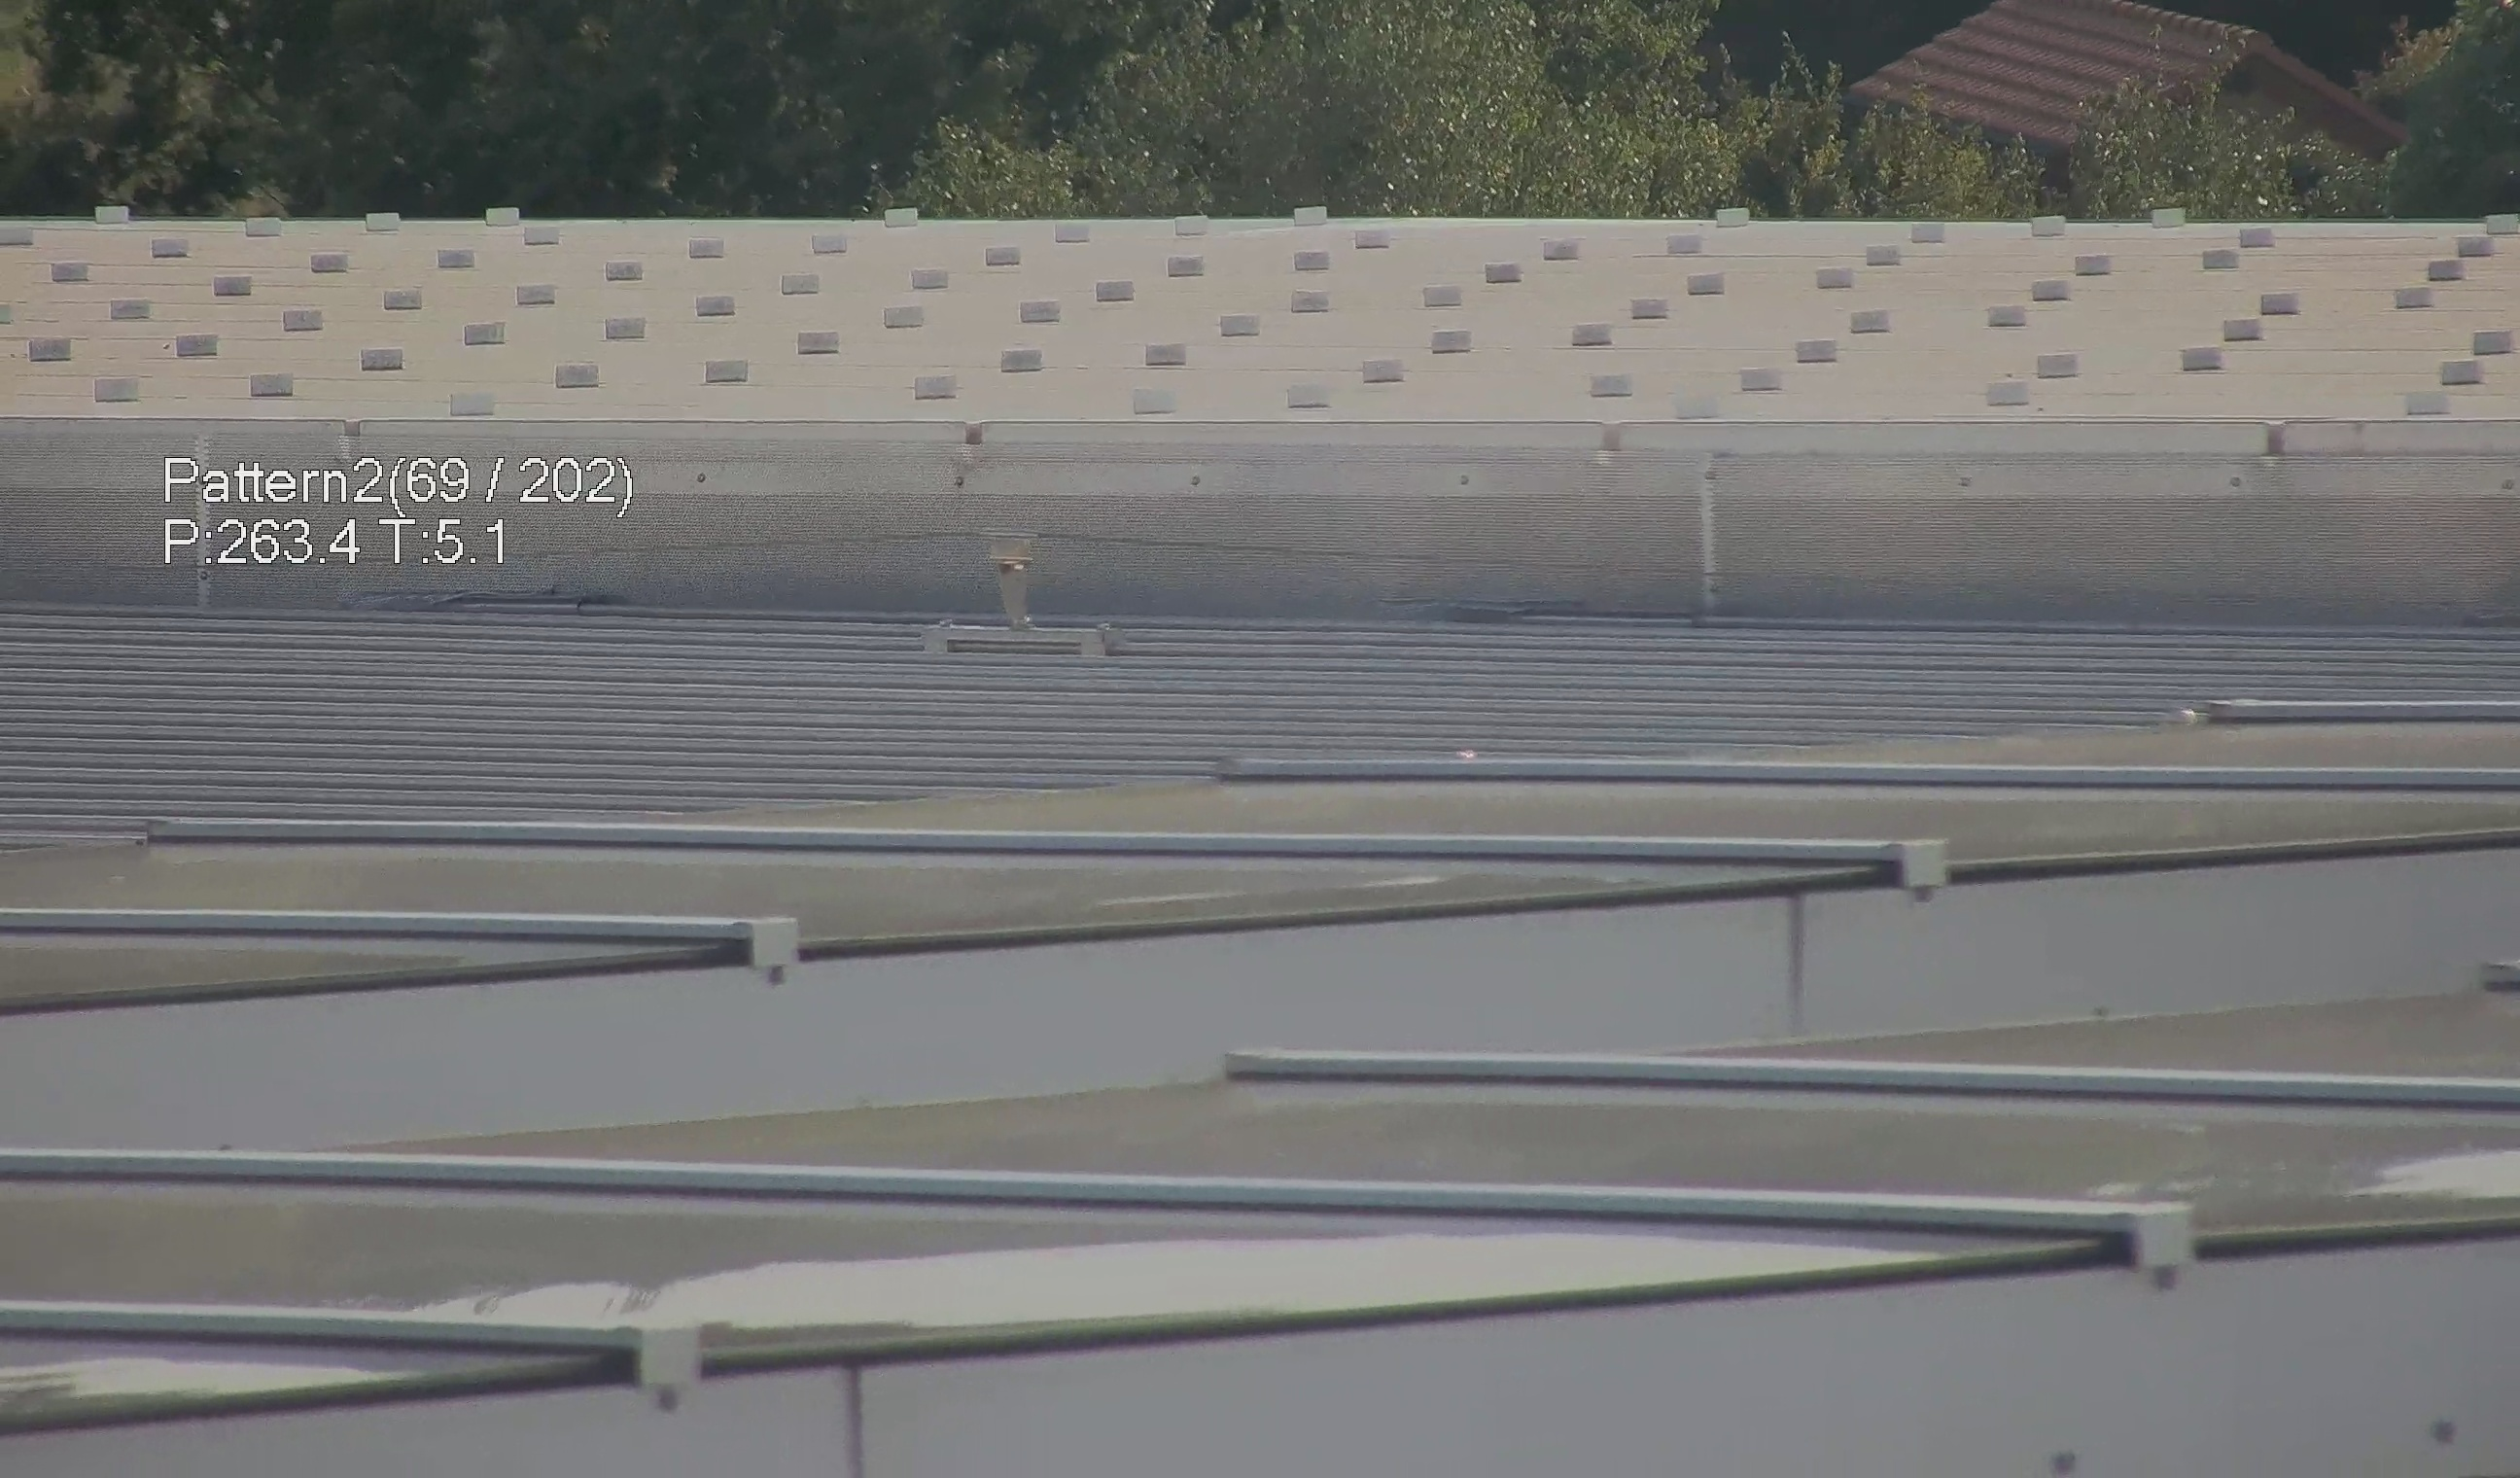Other: (967, 533, 1046, 635)
